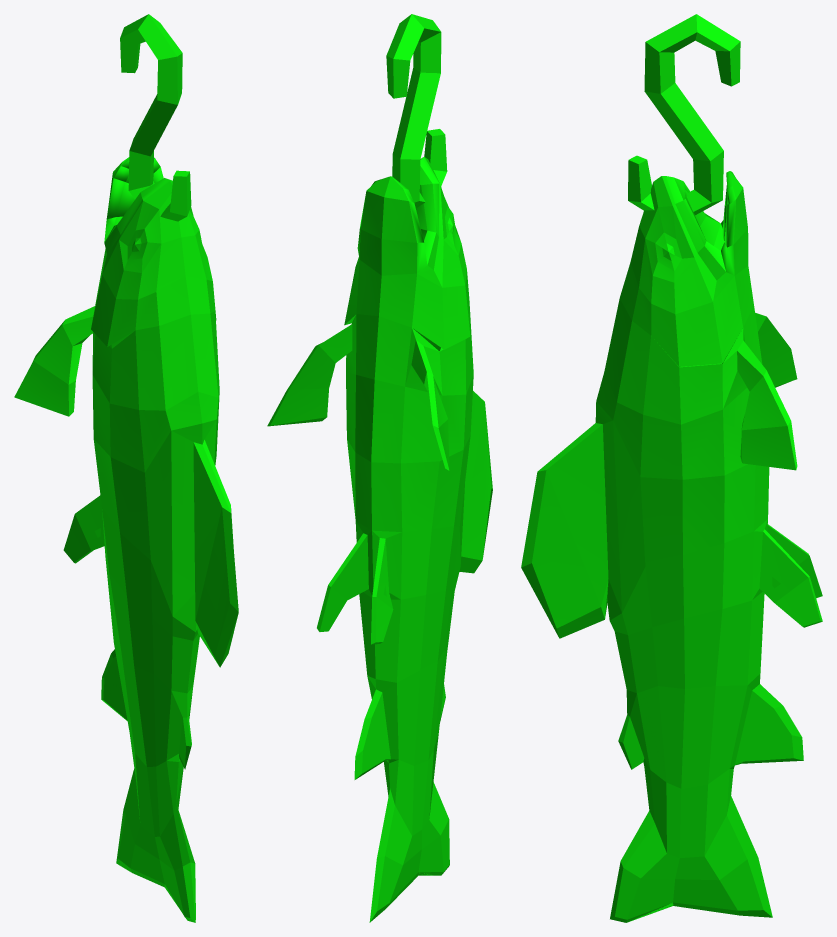
Rendered from SM_Fish_Trout_Hanging_C.fbx.
3 views of the same model, side by side, from view 1: azimuth 30°, elevation 25°; view 2: azimuth 150°, elevation 25°; view 3: azimuth 270°, elevation 25° (orthographic). The views are drawn at different scales.
Visible parts, largest first — view 1: fish-trout-hanging-c; view 2: fish-trout-hanging-c; view 3: fish-trout-hanging-c.
Part boxes in pixels (x1=…): fish-trout-hanging-c: x1=14, y1=14, x2=238, y2=922; fish-trout-hanging-c: x1=267, y1=14, x2=492, y2=922; fish-trout-hanging-c: x1=521, y1=14, x2=822, y2=922.
Bounding box in the file's own units: 0.1433 × 0.6662 × 0.201.
